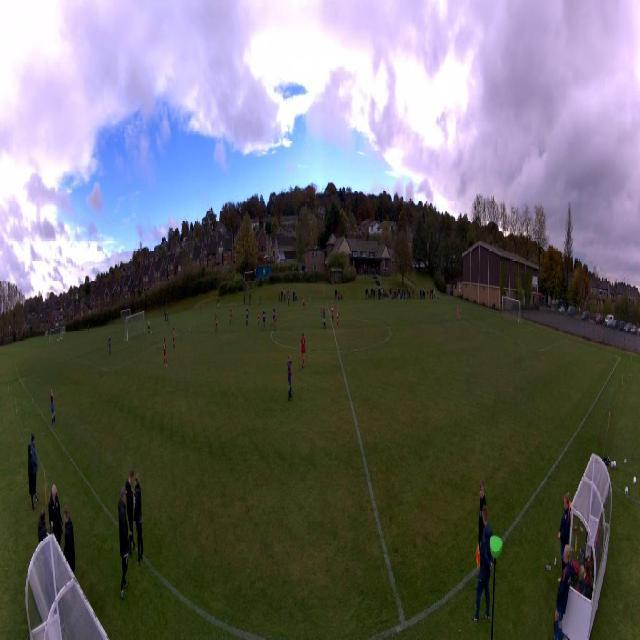ball: (151, 331, 152, 336)
player: (287, 355, 293, 402), (300, 331, 306, 369), (51, 390, 56, 429), (163, 338, 168, 368), (321, 305, 326, 330), (336, 305, 340, 329), (273, 307, 277, 331), (330, 300, 334, 322), (262, 308, 266, 330), (108, 336, 112, 355), (245, 307, 249, 326), (172, 328, 175, 350), (302, 297, 306, 313), (215, 313, 218, 333), (257, 308, 260, 328), (272, 306, 275, 326), (456, 306, 459, 325), (230, 308, 233, 325), (148, 319, 151, 335), (167, 311, 169, 326), (288, 293, 290, 307), (259, 295, 261, 307)
